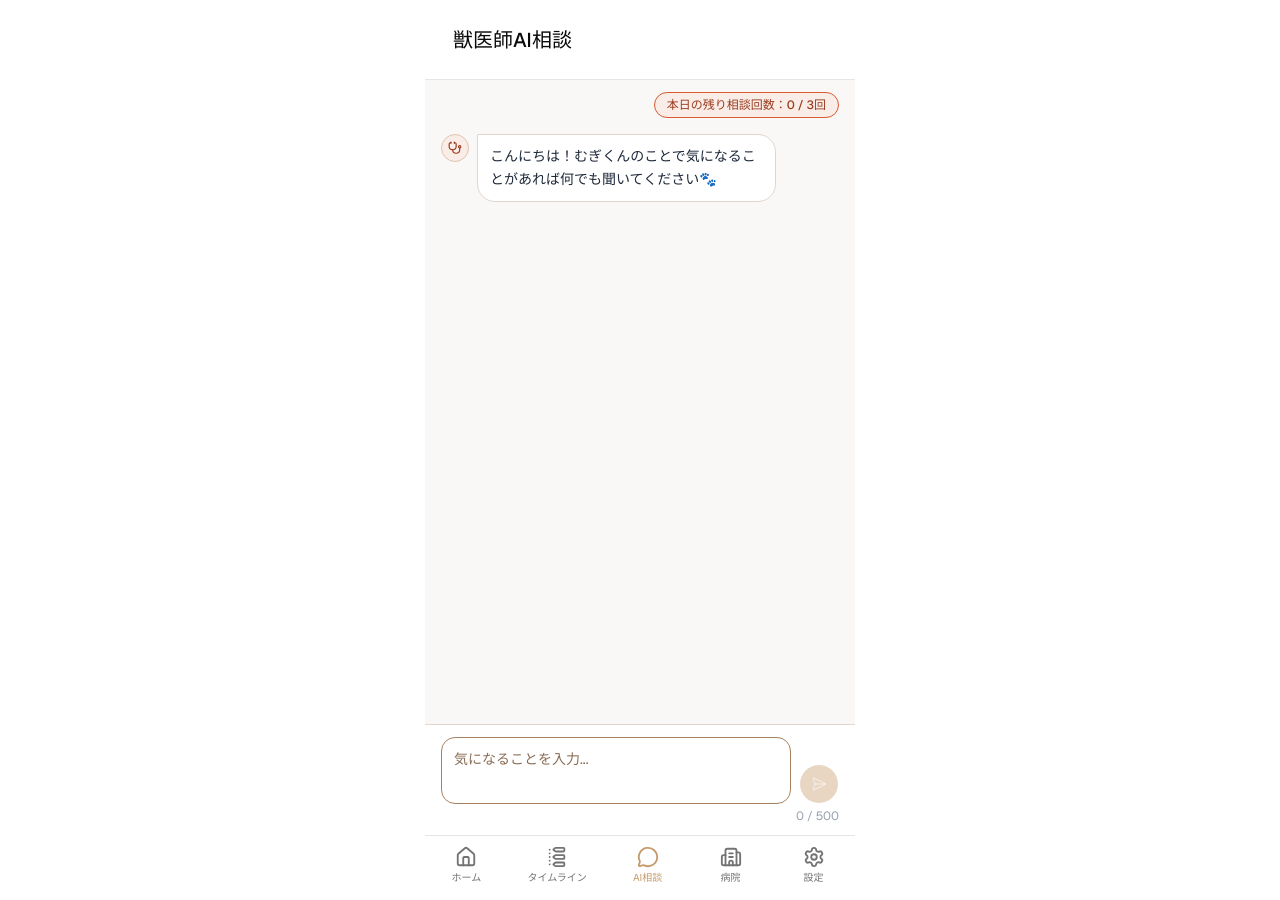
AiChatPage › AiChatPage › 上限・モーダル › UT-F-410: 残り回数が0の状態で送信するとプレミアムモーダルが表示される
Expected: the text "こんにちは！むぎくんのことで気になることがあれば何でも聞いてください🐾" is shown, [477,134,776,202]
Type "質問です" into the text box with placeholder "気になることを入力..." at (616, 770), box [441,736,791,804]
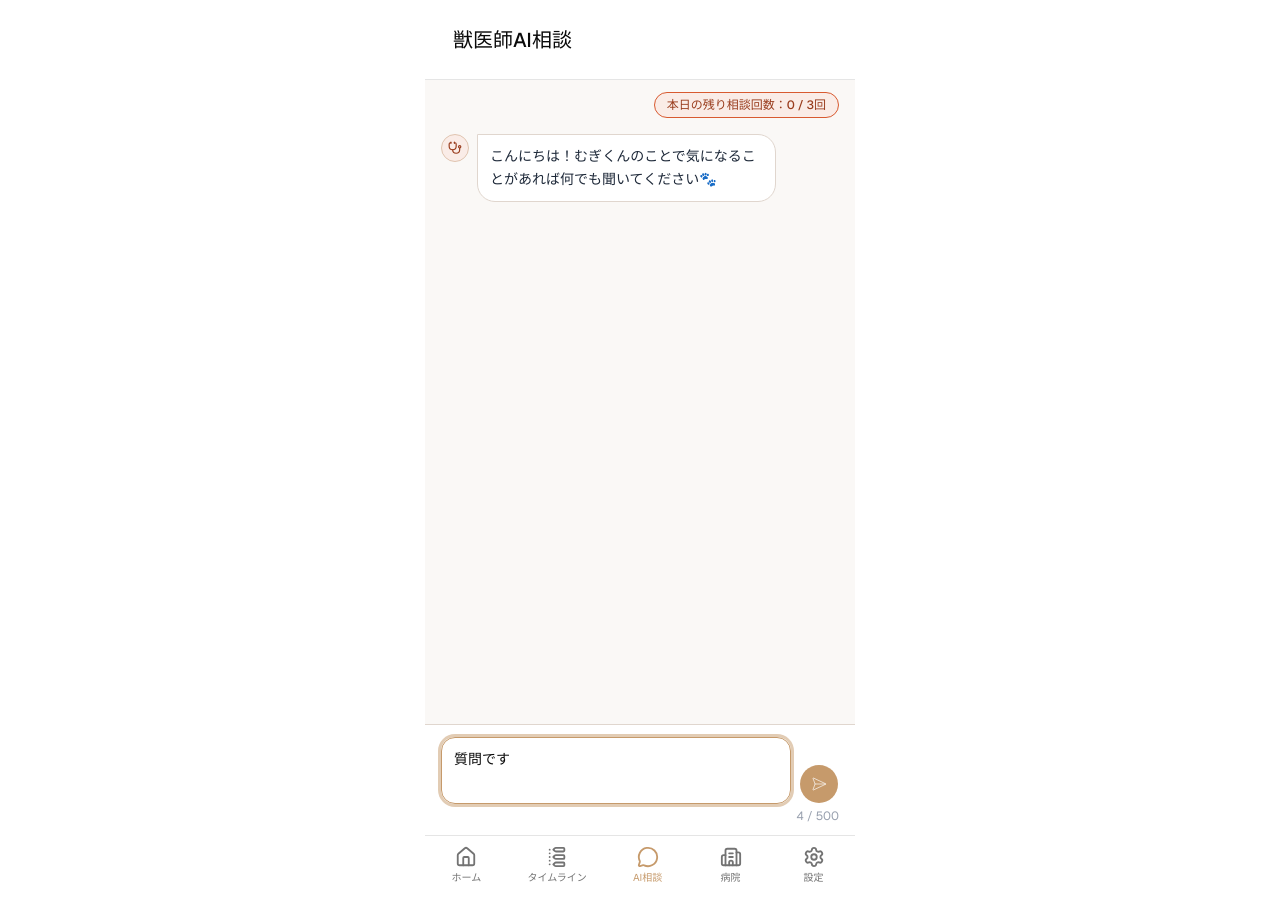
Click the button named "送信" at (819, 784), box [799,764,839,804]
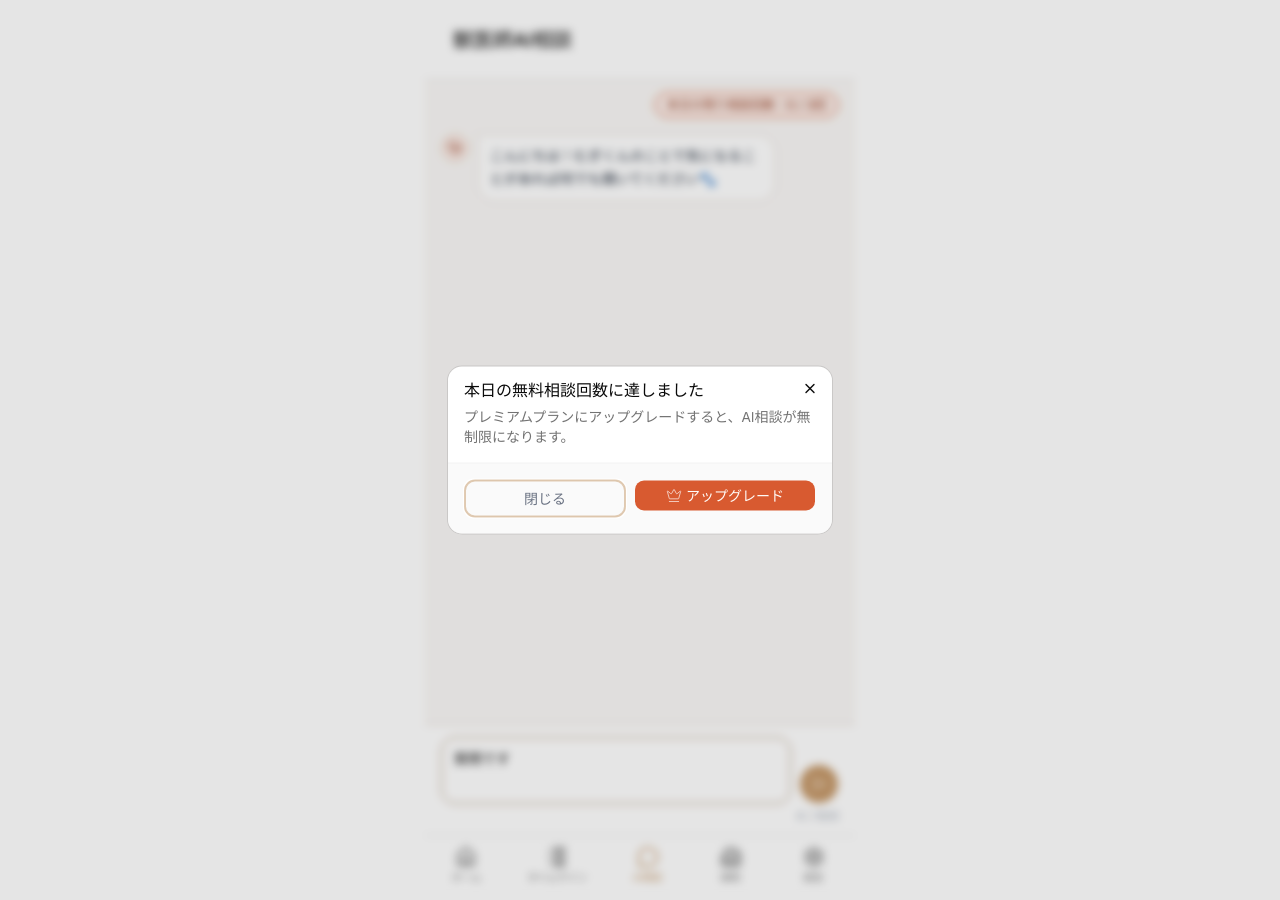
Result: the heading "本日の無料相談回数に達しました" is shown at [464,380,704,400]
